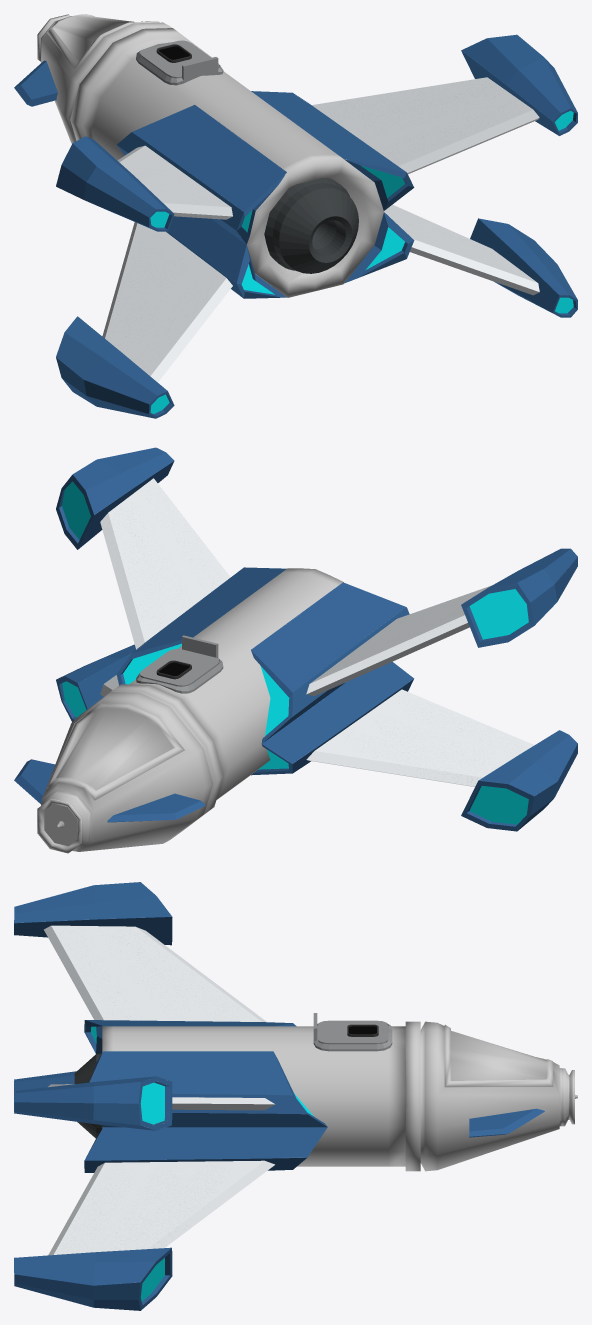
Rendered from ship.fbx.
3 views of the same model, one above another, from view 1: azimuth 30°, elevation 25°; view 2: azimuth 150°, elevation 25°; view 3: azimuth 270°, elevation 25° (orthographic). The views are drawn at different scales.
Parts seen in each view (by area): view 1: Wing, Body v5 Smooth, Engine, Door, Winglet; view 2: Wing, Body v5 Smooth, Door, Winglet; view 3: Wing, Body v5 Smooth, Door, Winglet, Engine.
Boxes of the visible parts, box(x1,y1,x2,y2) form: Wing: box(56, 34, 577, 418); Body v5 Smooth: box(37, 14, 383, 297); Engine: box(264, 178, 358, 273); Door: box(136, 40, 223, 85); Winglet: box(14, 60, 57, 106); Wing: box(56, 447, 577, 831); Body v5 Smooth: box(37, 568, 343, 853); Door: box(136, 635, 223, 693); Winglet: box(14, 759, 205, 822); Wing: box(14, 882, 327, 1310); Body v5 Smooth: box(102, 1021, 577, 1171); Door: box(313, 1013, 392, 1051); Winglet: box(469, 1108, 544, 1137); Engine: box(74, 1053, 102, 1138).
Bounding box in the file's own units: 483 × 535 × 240.
